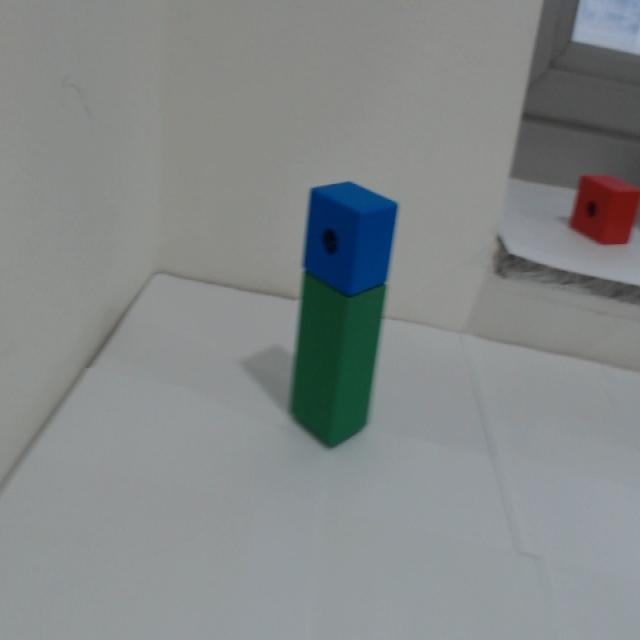cube: (298, 158, 420, 300)
